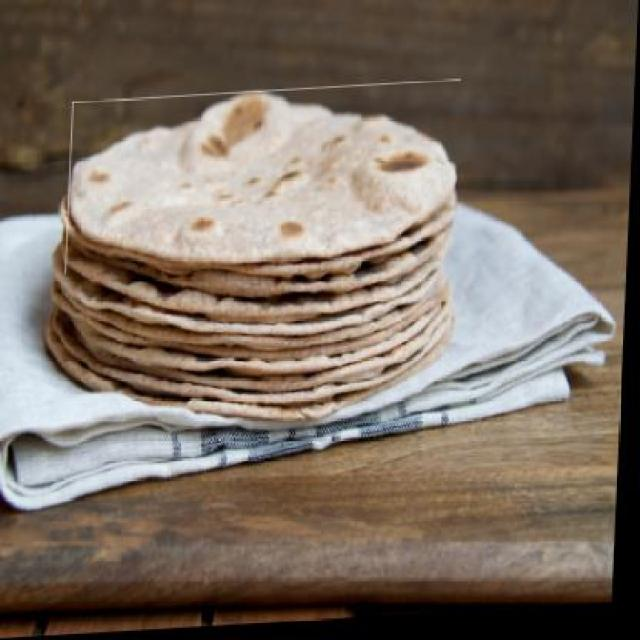chapati: (67, 85, 462, 277)
